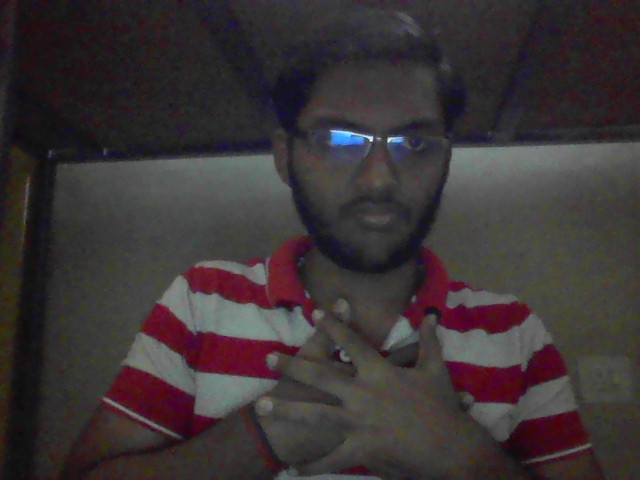Yes_Hungry: (249, 293, 565, 480)
